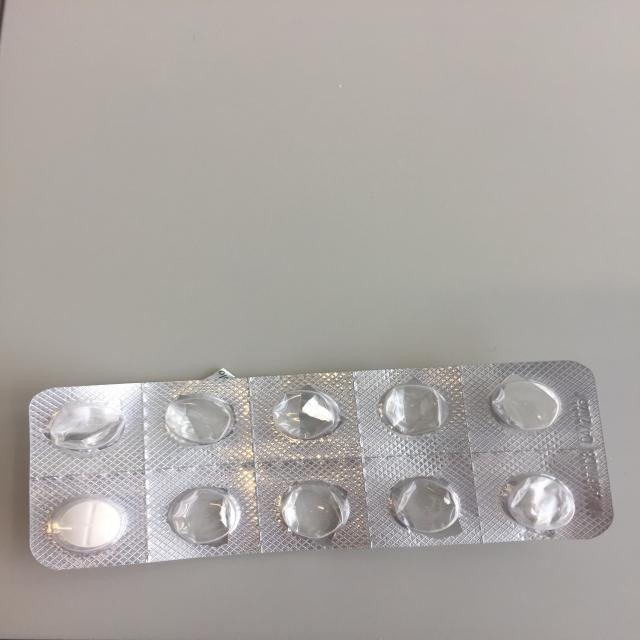Empty: (270, 480, 360, 545), (162, 483, 250, 549), (383, 472, 467, 541), (493, 470, 582, 534), (263, 384, 350, 445), (41, 396, 126, 457), (374, 379, 456, 442), (158, 389, 239, 452), (482, 376, 566, 434)
Pill: (43, 493, 133, 561)
